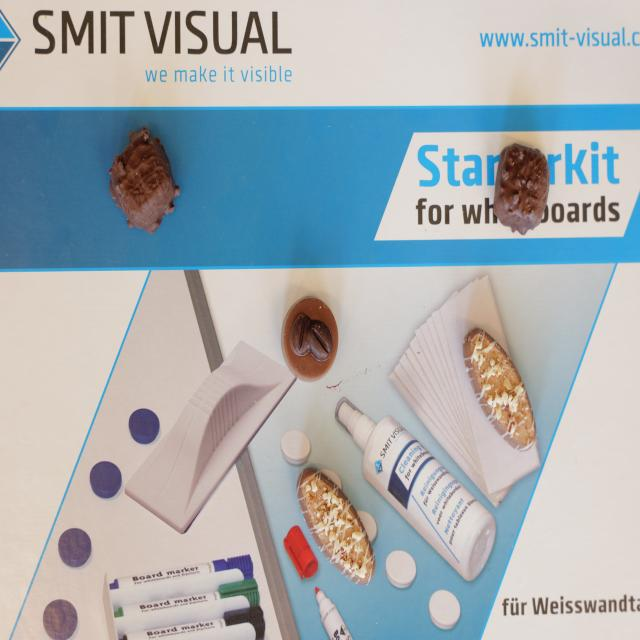Amandina: (460, 320, 560, 464), (291, 461, 386, 592)
Arabia: (282, 292, 340, 380)
Tentation_noir: (115, 125, 181, 226), (495, 139, 552, 236)
